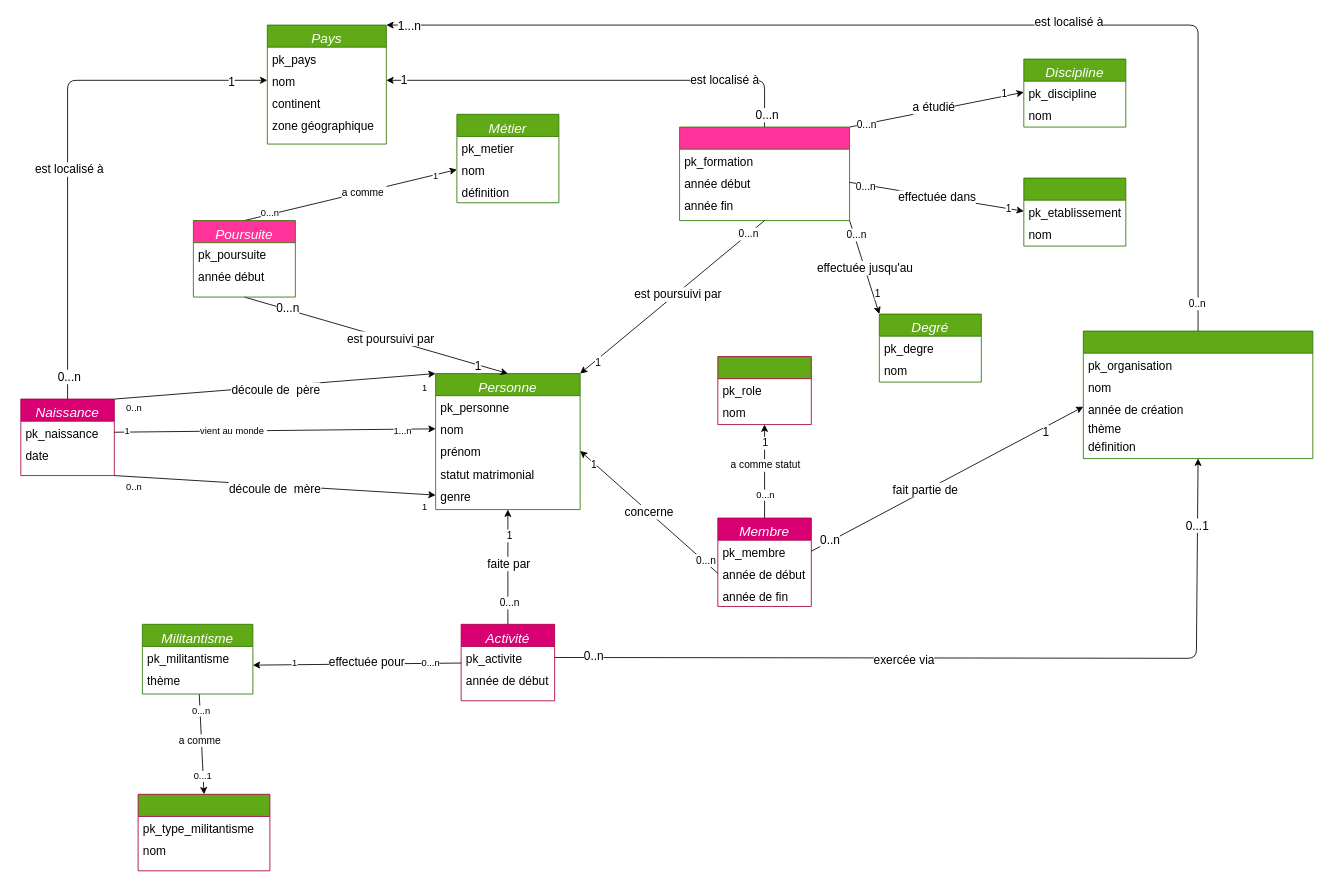
Some shapes in this 1328 by 887 pixel diagram are drawn without their labels. Each missing label, with the box of its shape:
Formation Professionnelle: (679, 126, 850, 221)
Organisation ou association politique: (1082, 330, 1313, 459)
Rôle: (717, 356, 811, 425)
Type de militantisme: (137, 793, 270, 871)
Établissement: (1023, 177, 1126, 246)
